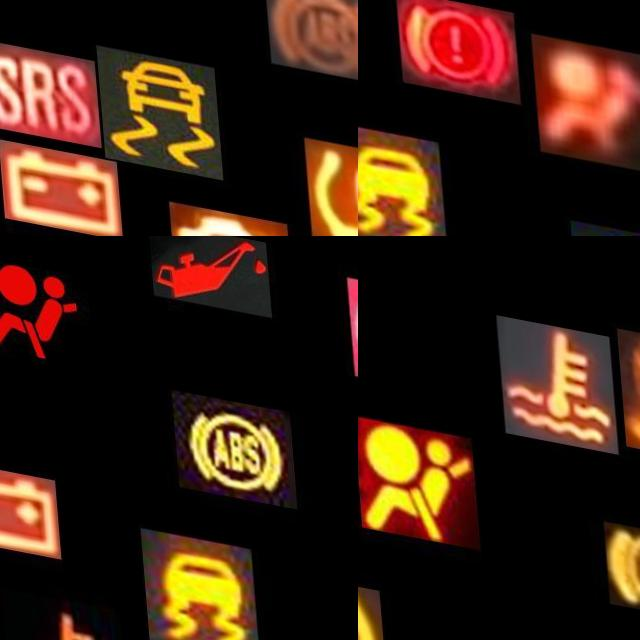Engine cooling system: (494, 302, 614, 437), (0, 583, 118, 640)
